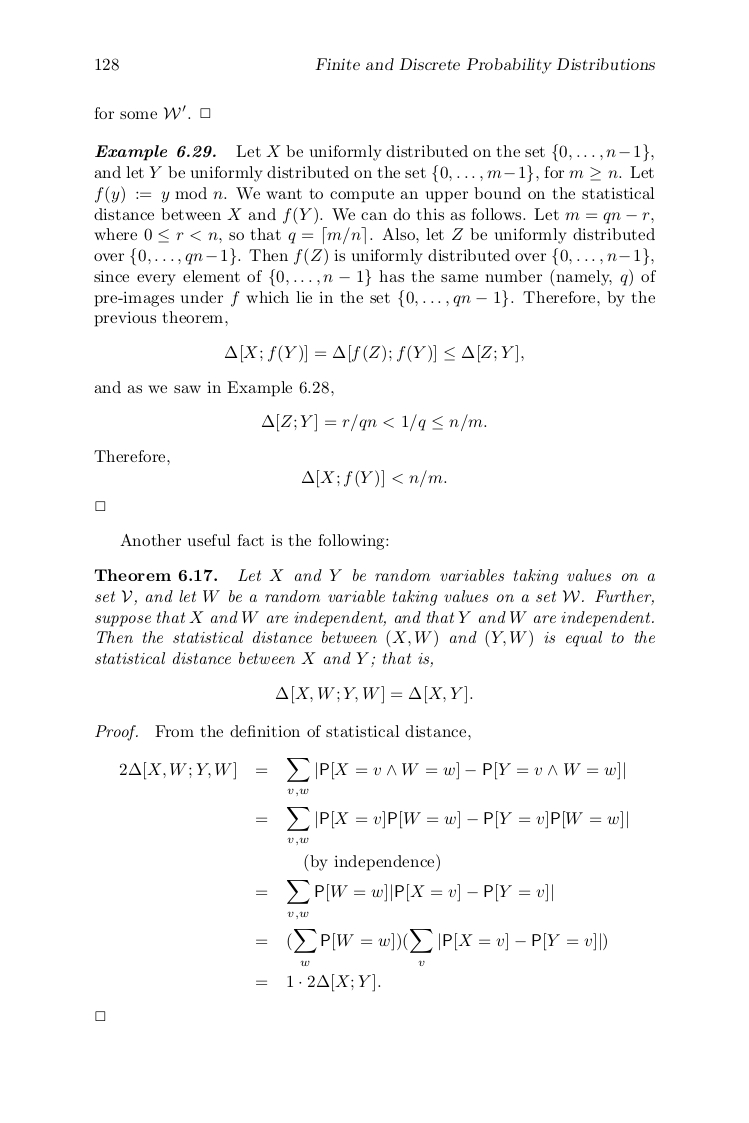formula: (119, 758, 624, 796), (256, 807, 627, 845), (256, 929, 606, 966), (256, 880, 552, 919), (225, 344, 523, 363), (262, 412, 486, 432), (276, 685, 472, 704), (302, 469, 446, 488), (256, 972, 380, 992)
